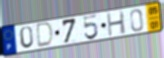0: (19, 25, 35, 50), (129, 9, 145, 33)
5: (83, 13, 100, 41)
7: (61, 17, 78, 45)
D: (37, 21, 56, 49)
H: (105, 10, 127, 37)
